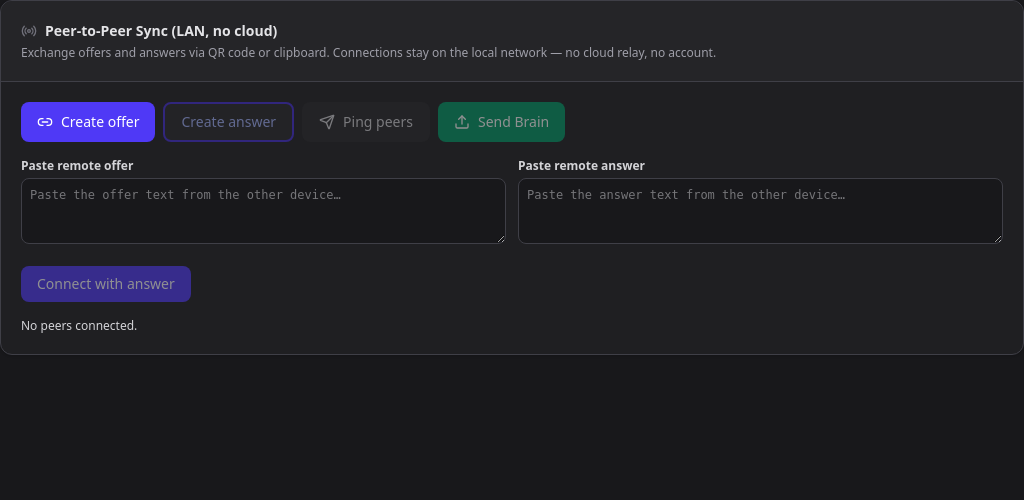
P2PSyncPanel › creates an offer and shows shareable text
Step 1. Click the button "Create offer" → {"x": 88, "y": 122}, box 21,102 -> 156,142
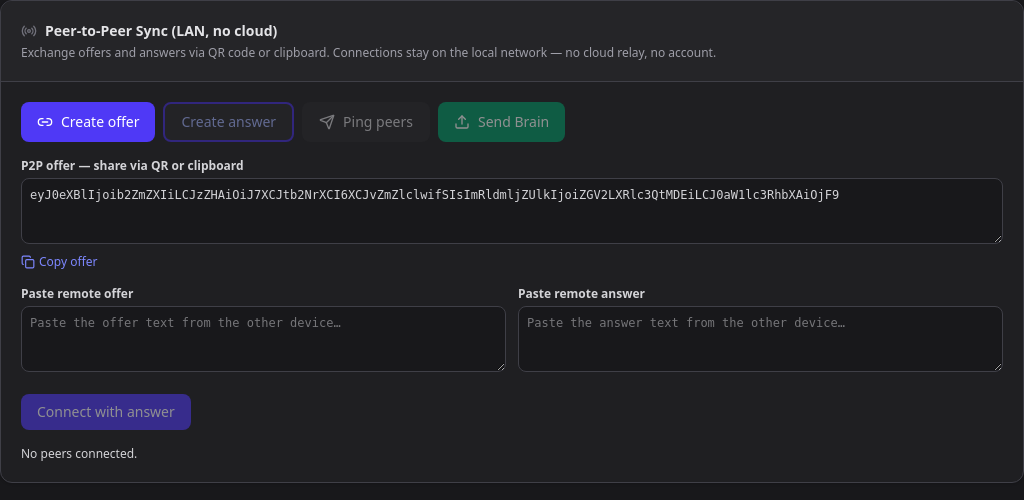
Check: the button "Copy offer" is shown, box 21,254 -> 98,270
